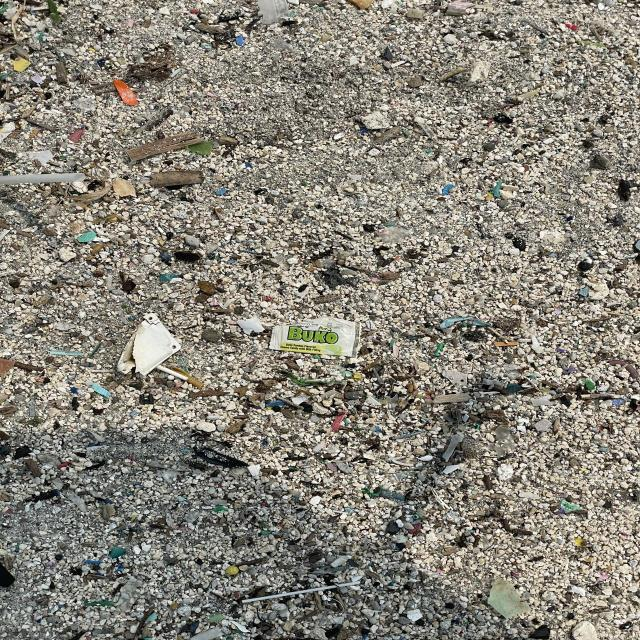plastic_waste: (270, 320, 360, 359), (1, 174, 87, 187)
